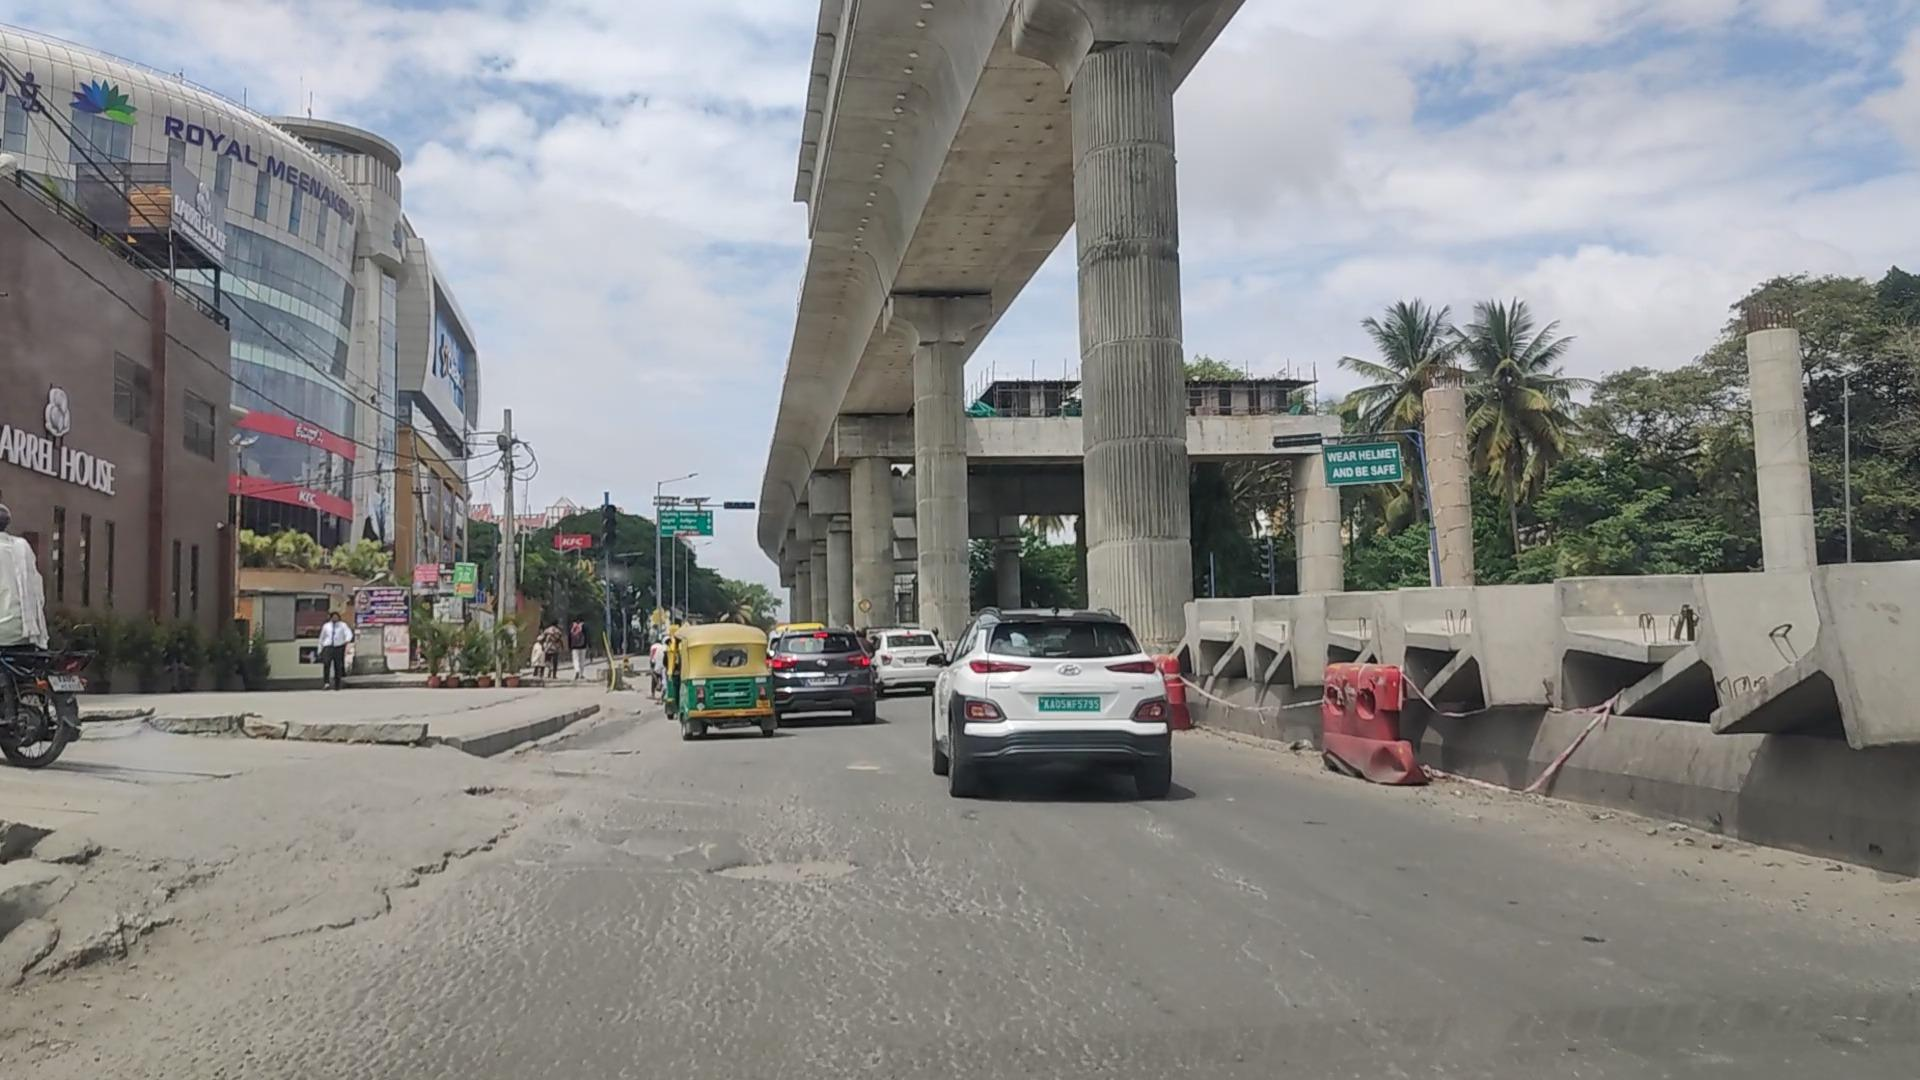LMV: (926, 601, 1153, 799), (675, 624, 769, 740)
RoadDamages: (712, 835, 857, 891)
